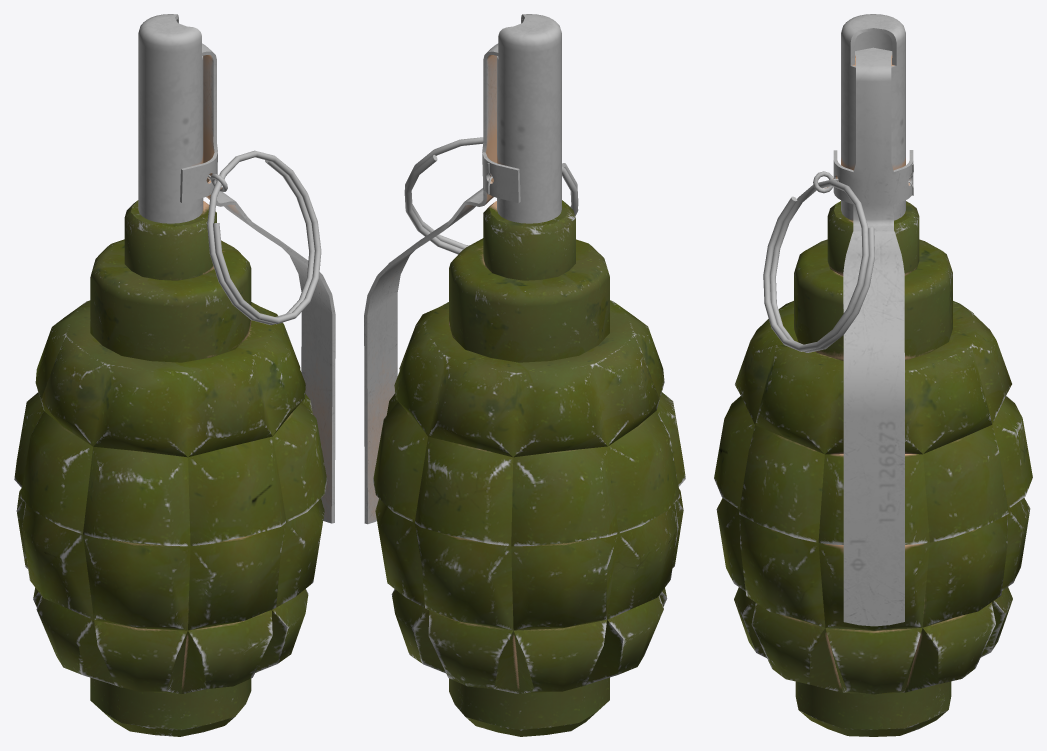
The model's file is grenade_f1.glb.
3 views of the same model, side by side, from view 1: azimuth 30°, elevation 25°; view 2: azimuth 150°, elevation 25°; view 3: azimuth 270°, elevation 25° (orthographic).
Parts seen in each view (by area): view 1: Base_Low, Up_Low, Bracket_Low, Circle_Low; view 2: Base_Low, Up_Low, Bracket_Low, Circle_Low; view 3: Base_Low, Bracket_Low, Up_Low, Circle_Low.
Boxes of the visible parts, x1,y1,x2,y2 form: Base_Low: (14, 200, 327, 736); Up_Low: (138, 14, 203, 223); Bracket_Low: (180, 43, 335, 523); Circle_Low: (207, 150, 321, 325); Base_Low: (373, 200, 685, 736); Up_Low: (497, 14, 561, 223); Bracket_Low: (364, 43, 520, 524); Circle_Low: (404, 137, 578, 254); Base_Low: (714, 201, 1032, 736); Bracket_Low: (833, 51, 913, 626); Up_Low: (841, 14, 905, 220); Circle_Low: (763, 164, 913, 352).
Size of the model in its own units: 0.0501 by 0.1138 by 0.048.
Materials: 1 (1 with a texture image).
